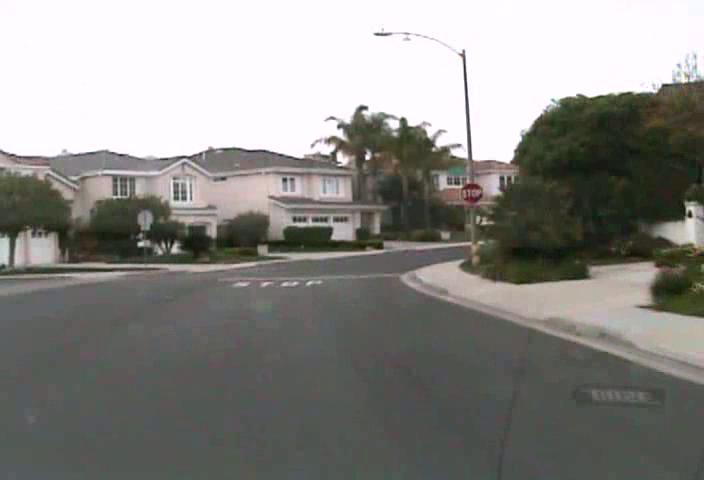stop: (460, 181, 484, 205)
